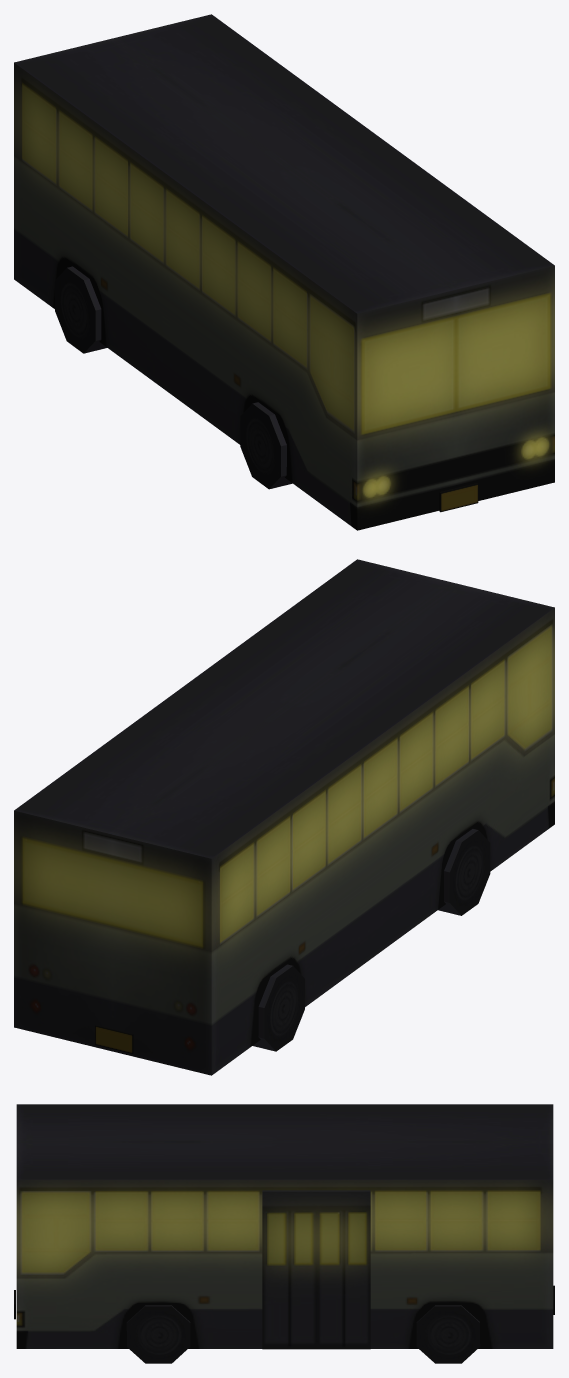
Rendered from cge.FBX.
3 views of the same model, one above another, from view 1: azimuth 30°, elevation 25°; view 2: azimuth 150°, elevation 25°; view 3: azimuth 270°, elevation 25° (orthographic). The views are drawn at different scales.
Visible parts, largest first — view 1: modelBus; view 2: modelBus; view 3: modelBus.
Part boxes in pixels (bbox=[...]): modelBus: bbox=[14, 14, 554, 530]; modelBus: bbox=[14, 559, 554, 1075]; modelBus: bbox=[14, 1104, 554, 1363].
Size of the model in its own units: 63.06 by 68.45 by 183.
Materials: 1 (1 with a texture image).
